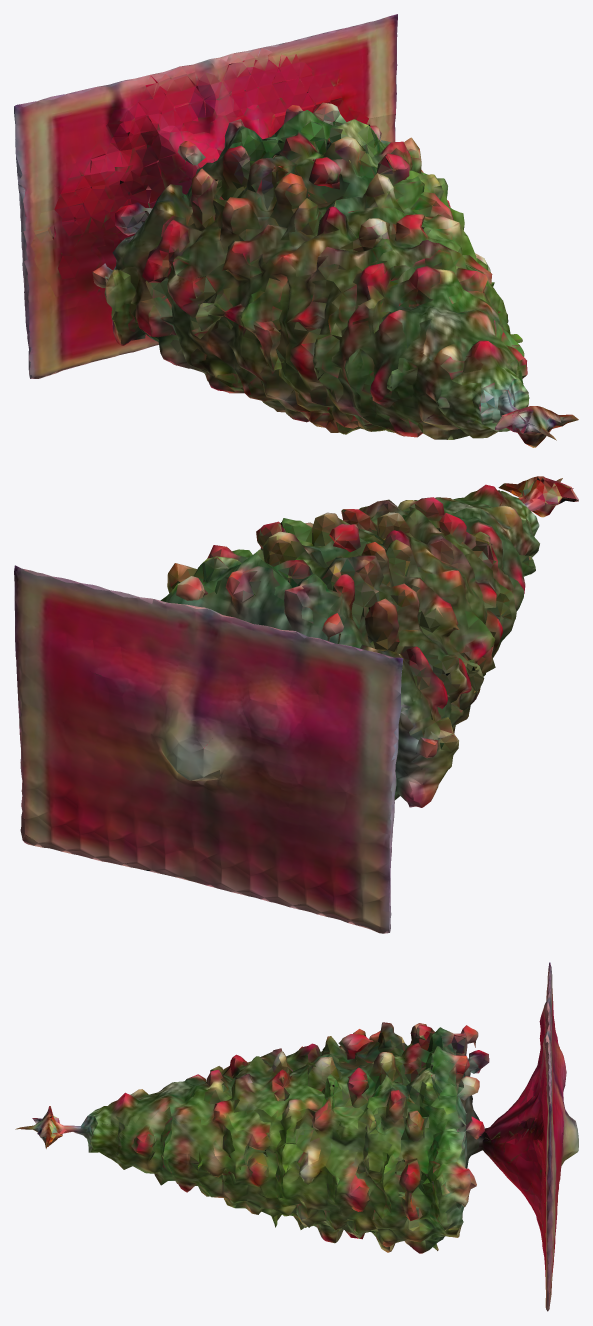
File: christmas_tree.glb
3 views of the same model, one above another, from view 1: azimuth 30°, elevation 25°; view 2: azimuth 150°, elevation 25°; view 3: azimuth 270°, elevation 25° (orthographic). The views are drawn at different scales.
Parts seen in each view (by area): view 1: world.060; view 2: world.060; view 3: world.060.
Part boxes in pixels (x1,y1,x2,y2): world.060: (14, 14, 578, 447); world.060: (14, 476, 578, 933); world.060: (15, 962, 578, 1311).
Size of the model in its own units: 0.5978 by 0.4144 by 0.9967.
1 material, 1 textured.
